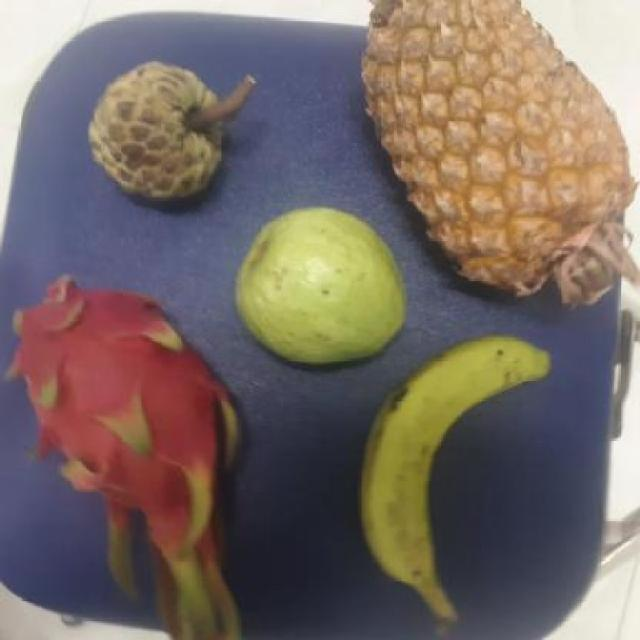banana: (357, 340, 546, 589)
dragon fruit: (4, 284, 241, 579)
guava: (229, 208, 406, 360)
pineapple: (369, 1, 620, 304)
sugar apple: (84, 62, 235, 206)
